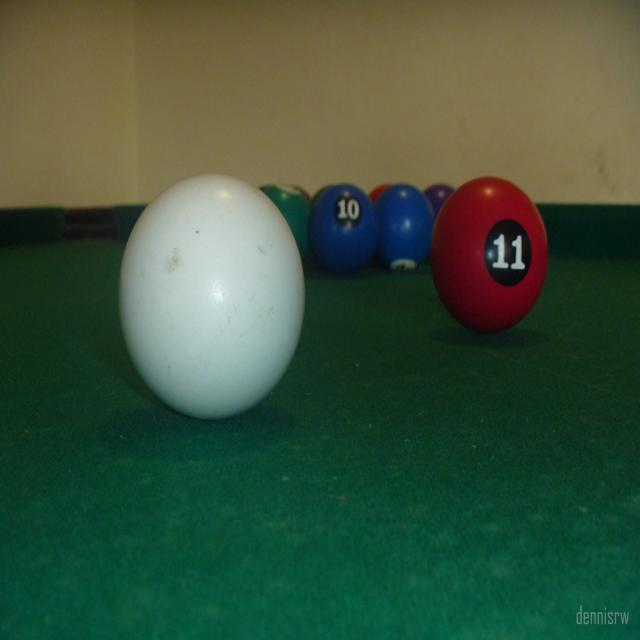Ball: (260, 175, 550, 336), (120, 173, 306, 419)
